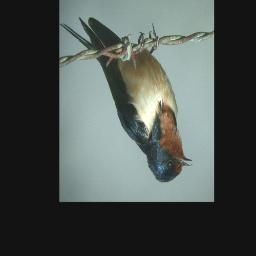Swallow: (59, 17, 193, 183)
